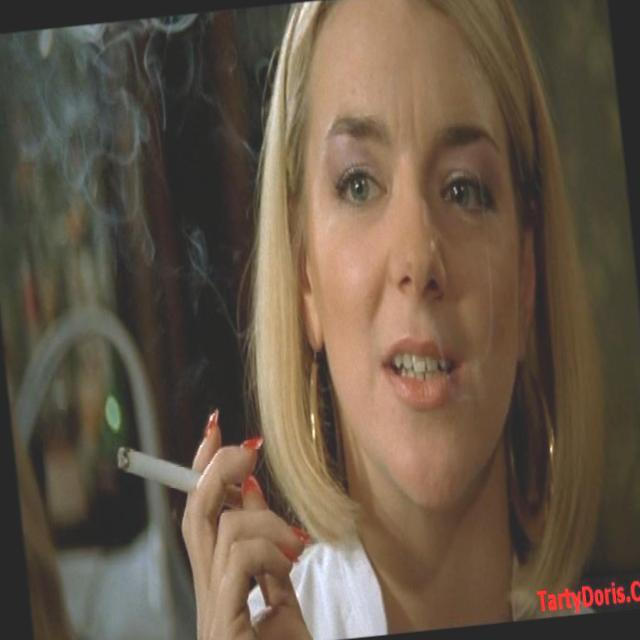smoke: (91, 380, 250, 530)
